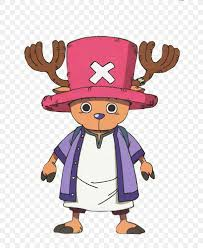chopper: (24, 35, 182, 238)
